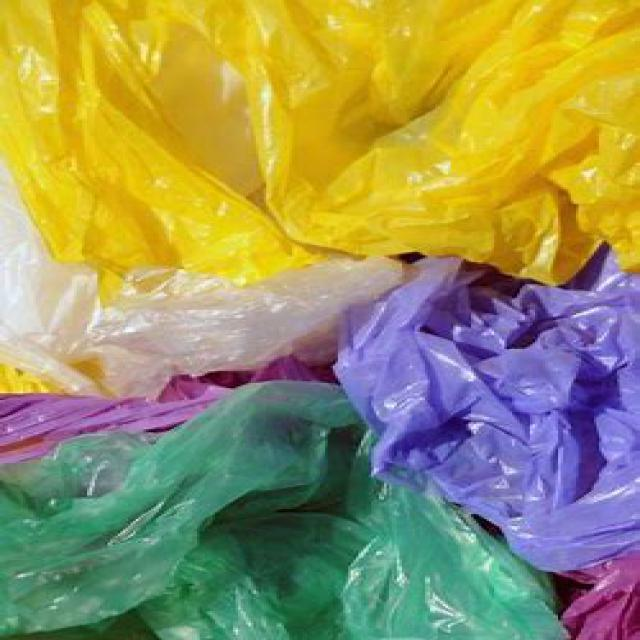waste: (5, 0, 638, 274), (338, 272, 638, 557)
